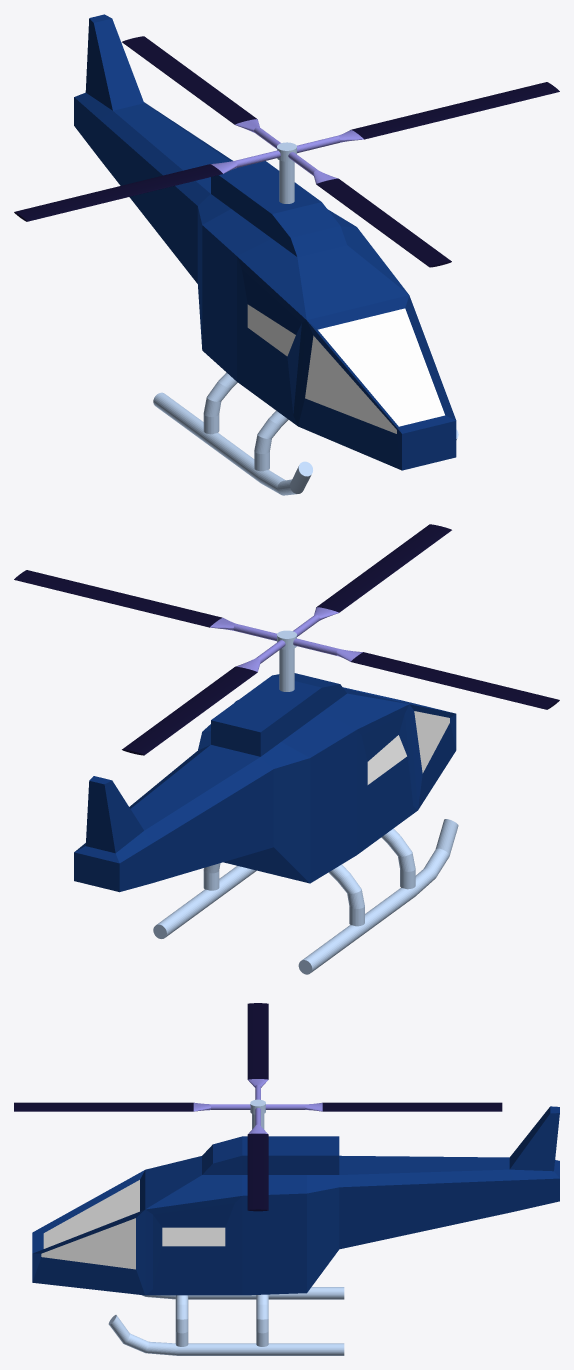
Rendered from Helicopter.fbx.
3 renders of one model, top to bottom at view 1: azimuth 30°, elevation 25°; view 2: azimuth 150°, elevation 25°; view 3: azimuth 270°, elevation 25°, orthographic. The views are drawn at different scales.
Parts seen in each view (by area): view 1: Body, Rotor; view 2: Body, Rotor; view 3: Body, Rotor.
Part boxes in pixels (x1,y1,x2,y2): Body: [74, 14, 458, 495]; Rotor: [14, 36, 559, 267]; Body: [74, 630, 458, 974]; Rotor: [14, 524, 559, 755]; Body: [32, 1099, 559, 1355]; Rotor: [14, 1003, 502, 1211].
Size of the model in its own units: 888 by 450 by 993.
